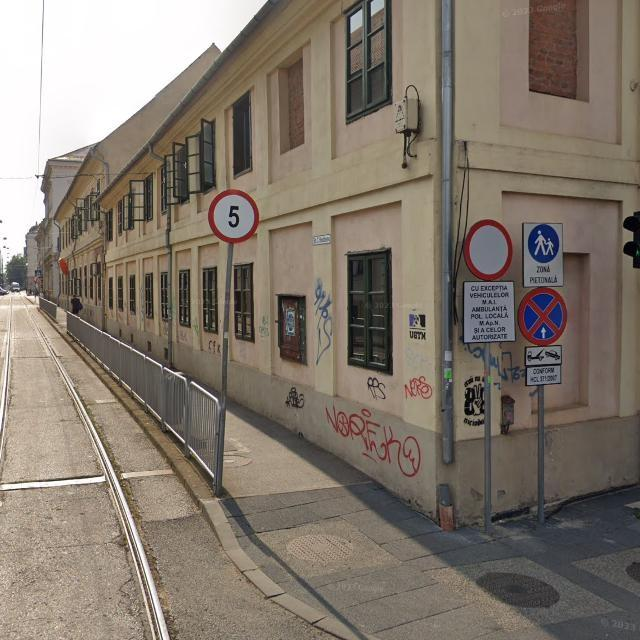forb_waiting: (518, 287, 568, 347)
